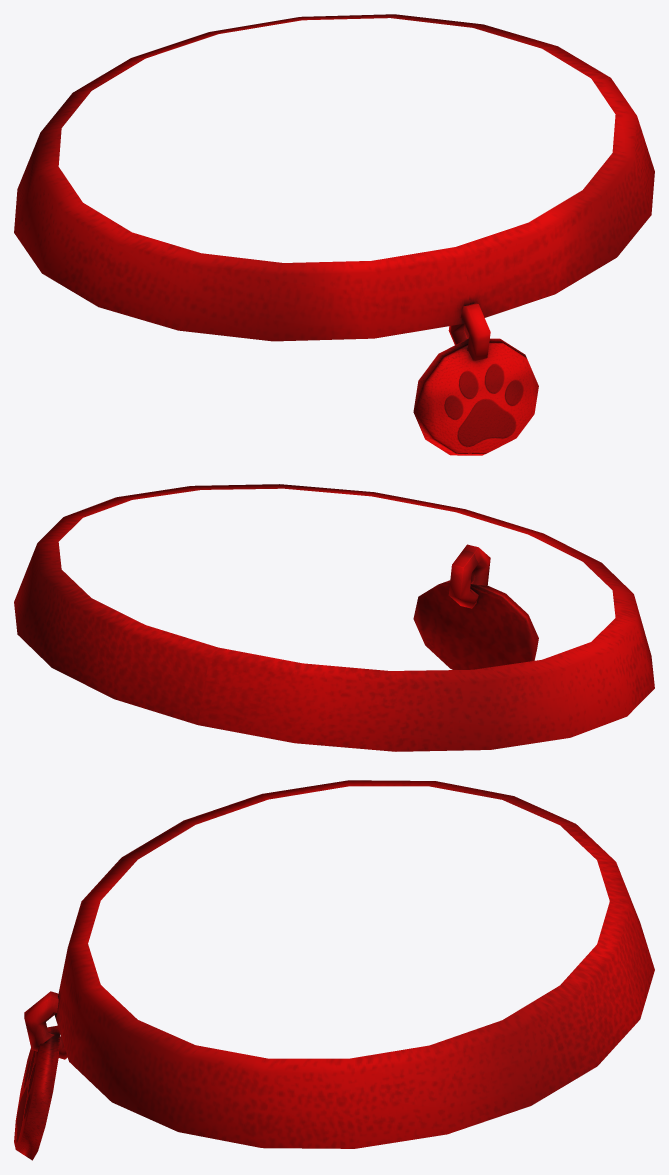
File: SM_Collar.glb
The picture shows the model from 3 angles, top to bottom: view 1: azimuth 30°, elevation 25°; view 2: azimuth 150°, elevation 25°; view 3: azimuth 270°, elevation 25°; orthographic projection. The views are drawn at different scales.
Visible parts, largest first — view 1: SM_Collar; view 2: SM_Collar; view 3: SM_Collar.
Part boxes in pixels (bbox=[...]): SM_Collar: bbox=[14, 14, 654, 455]; SM_Collar: bbox=[14, 484, 654, 751]; SM_Collar: bbox=[14, 780, 654, 1160].
Bounding box in the file's own units: 0.3723 × 0.1389 × 0.3218.
Materials: 1 (1 with a texture image).
